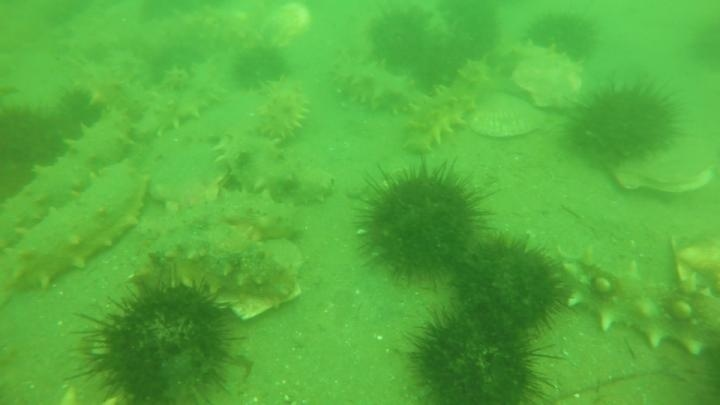echinus: (70, 275, 250, 405), (350, 157, 496, 287), (400, 301, 555, 405), (448, 230, 568, 339), (562, 75, 686, 172), (136, 9, 239, 84), (1, 102, 69, 199), (403, 14, 483, 93), (417, 1, 504, 67), (364, 5, 440, 75), (522, 9, 602, 65), (43, 85, 108, 147), (230, 42, 290, 93), (685, 17, 720, 75)
holothurian: (1, 163, 152, 299), (554, 242, 719, 362), (2, 107, 138, 232), (126, 227, 305, 302), (208, 128, 335, 209), (401, 56, 496, 157), (150, 186, 305, 242), (129, 59, 229, 143), (329, 50, 428, 118), (69, 66, 160, 124), (253, 77, 313, 146)
scallop: (612, 136, 718, 199), (506, 43, 587, 115), (464, 92, 548, 142), (671, 231, 720, 299), (256, 1, 314, 49), (255, 239, 307, 283)
